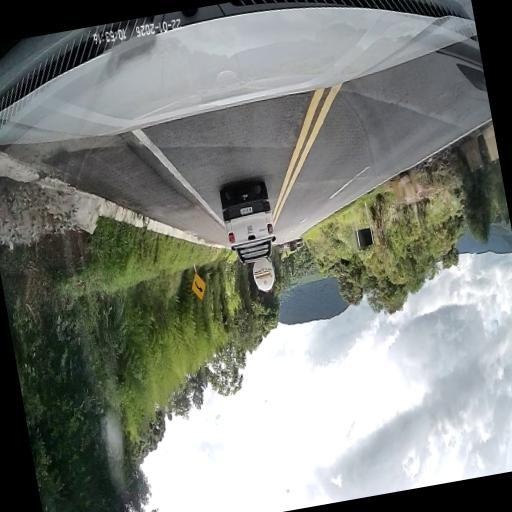A-2a: (188, 270, 208, 300)
